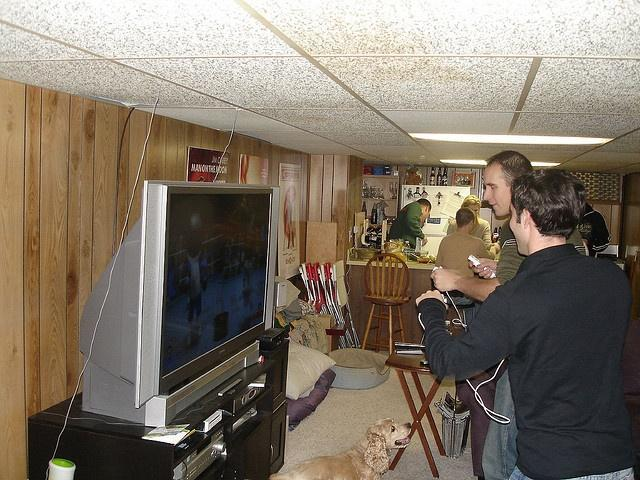AIO PC-Monitor-TV: (134, 179, 280, 410)
Kursi: (359, 253, 410, 357)
